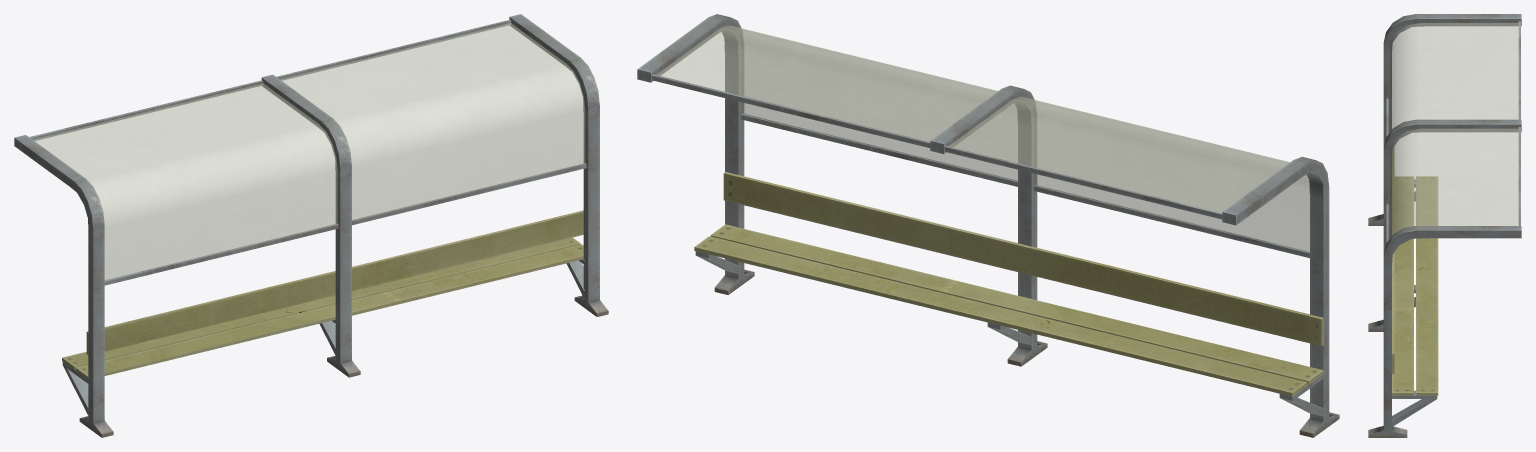
File: Bus_Stop_2.glb
3 views of the same model, side by side, from view 1: azimuth 30°, elevation 25°; view 2: azimuth 150°, elevation 25°; view 3: azimuth 270°, elevation 25° (orthographic). The views are drawn at different scales.
Parts seen in each view (by area): view 1: Bus_Stop_2__LOD3; view 2: Bus_Stop_2__LOD3; view 3: Bus_Stop_2__LOD3.
Part boxes in pixels (box(x1,y1,x2,y2)): Bus_Stop_2__LOD3: box(14, 14, 608, 437); Bus_Stop_2__LOD3: box(637, 14, 1339, 437); Bus_Stop_2__LOD3: box(1368, 14, 1521, 437).
Size of the model in its own units: 6.36 by 2.83 by 1.9.
Materials: 1 (1 with a texture image).
